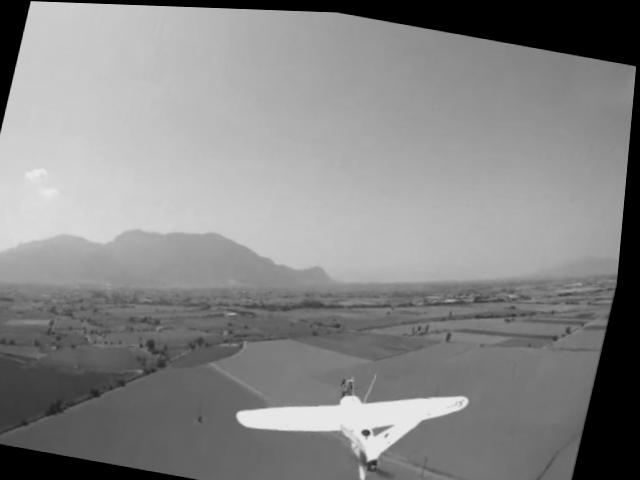hedef: (224, 337, 484, 480)
